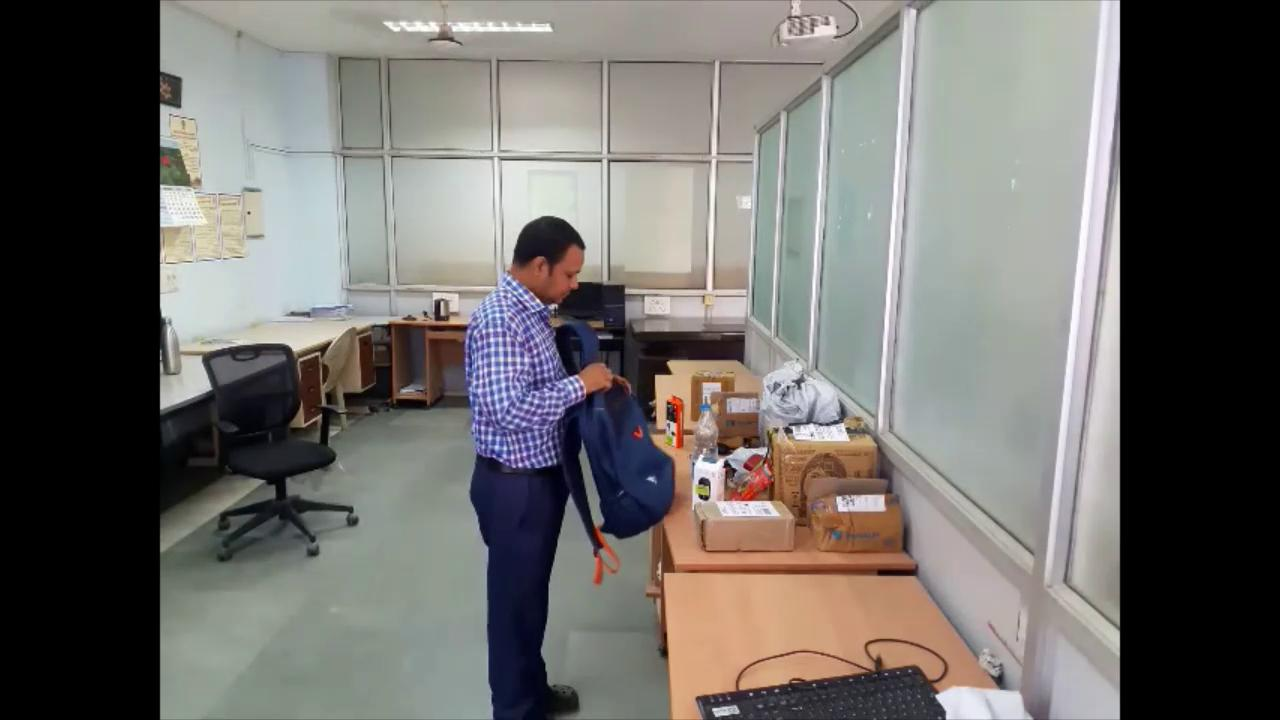shoplifting: (454, 207, 678, 719)
